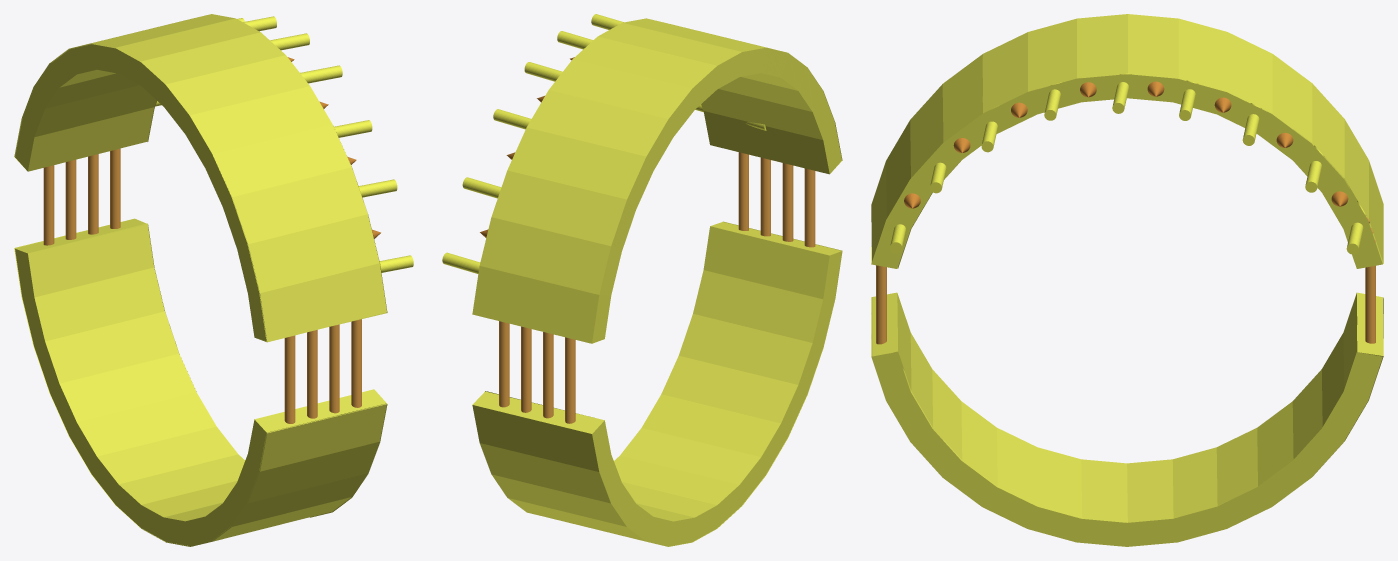
File: Obstacle.fbx
3 views of the same model, side by side, from view 1: azimuth 30°, elevation 25°; view 2: azimuth 150°, elevation 25°; view 3: azimuth 270°, elevation 25° (orthographic). The views are drawn at different scales.
Parts seen in each view (by area): view 1: Cylinder.001, Cylinder.002, Cylinder.003, Cylinder.005; view 2: Cylinder.001, Cylinder.003, Cylinder.002; view 3: Cylinder.001, Cylinder.003, Cylinder.002.
Part boxes in pixels (x1,y1,x2,y2): Cylinder.001: [14, 14, 387, 546]; Cylinder.002: [284, 319, 361, 423]; Cylinder.003: [43, 148, 120, 245]; Cylinder.005: [300, 65, 342, 83]; Cylinder.001: [472, 18, 842, 546]; Cylinder.003: [499, 321, 575, 423]; Cylinder.002: [738, 152, 815, 247]; Cylinder.001: [871, 14, 1383, 546]; Cylinder.003: [1365, 217, 1375, 343]; Cylinder.002: [876, 265, 886, 344].
Bounding box in the file's own units: 41.93 × 115 × 113.
